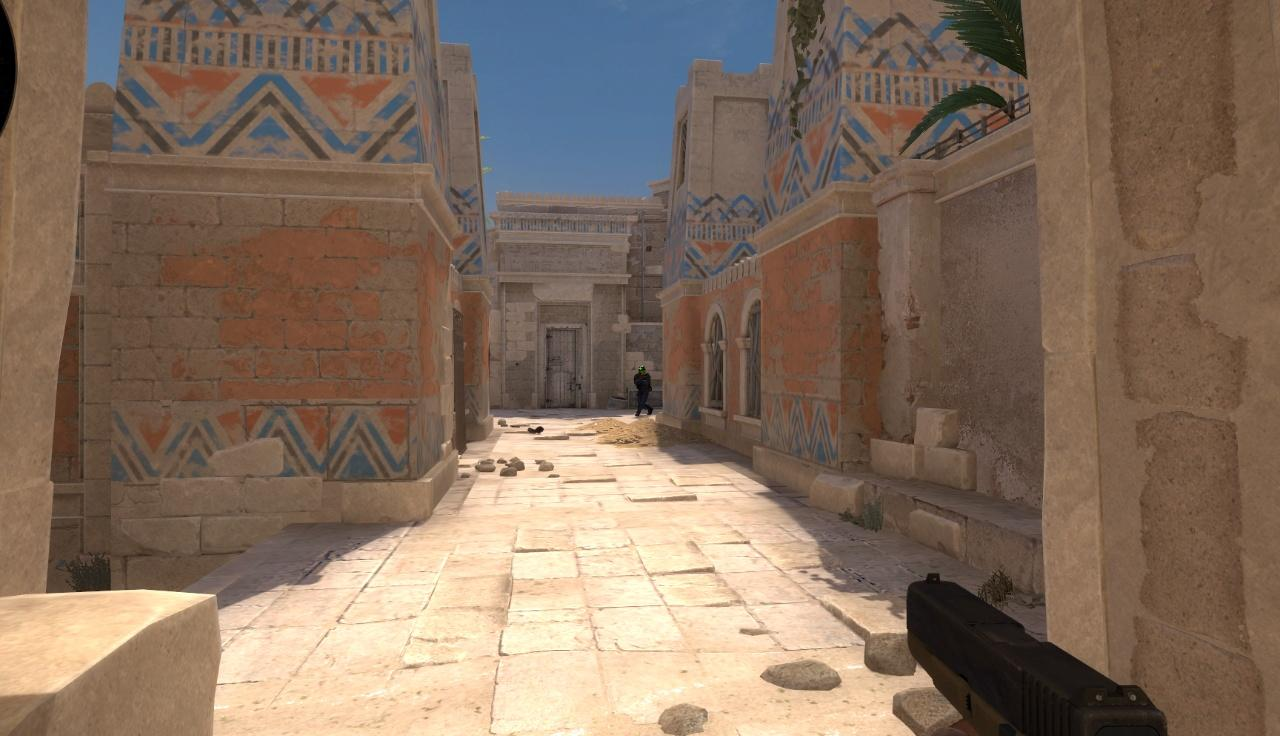ct: (633, 365, 652, 416)
cthead: (638, 366, 646, 375)
pistol: (898, 570, 1169, 736)
